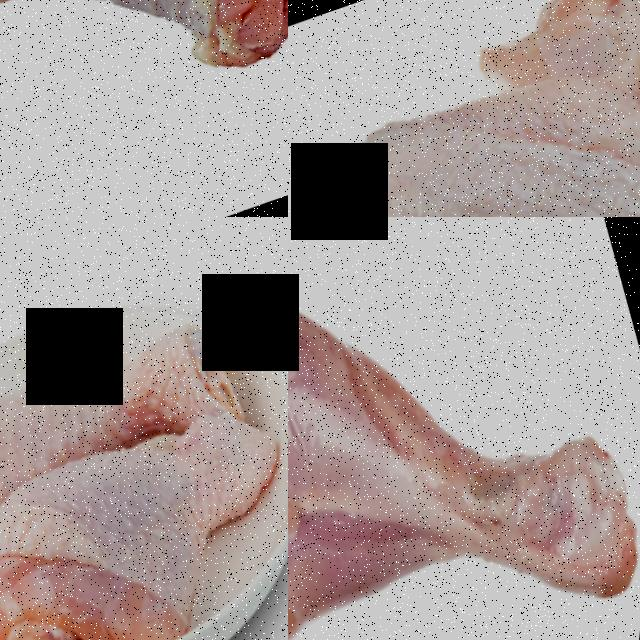chicken thigh: (288, 217, 640, 640), (0, 396, 288, 640), (0, 0, 288, 180)
chicken wing: (288, 0, 640, 217)
